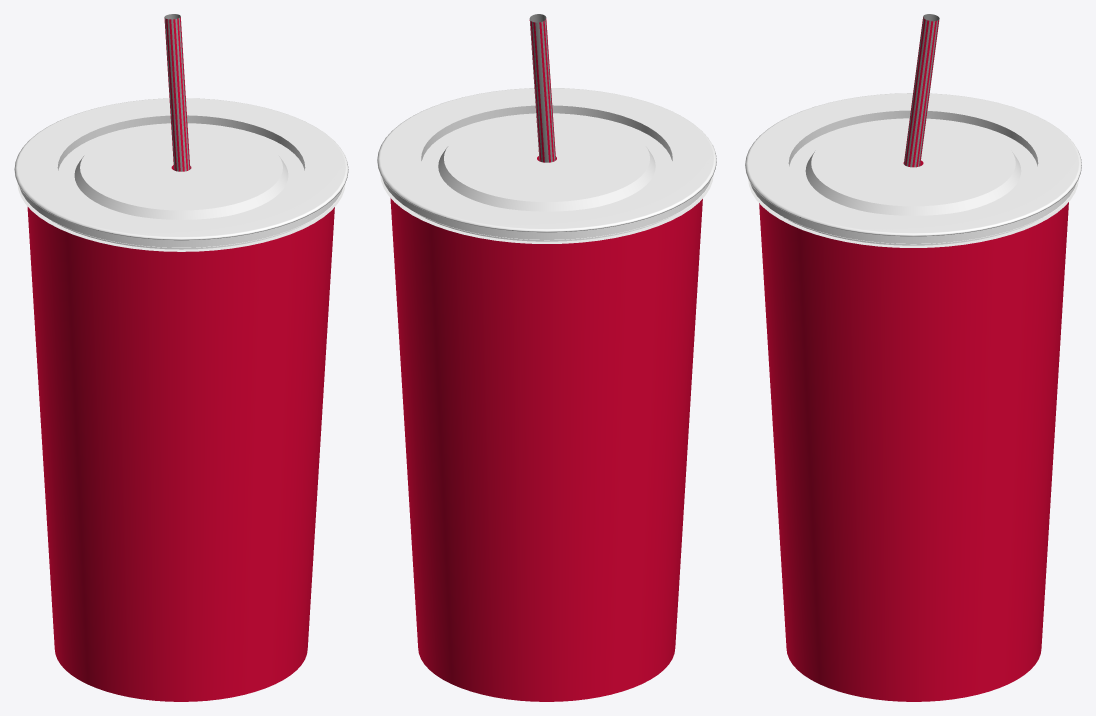
File: Cup.fbx
The picture shows the model from 3 angles, left to right: view 1: azimuth 30°, elevation 25°; view 2: azimuth 150°, elevation 25°; view 3: azimuth 270°, elevation 25°; orthographic projection.
Visible parts, largest first — view 1: Cup, Lid, Straw; view 2: Cup, Lid, Straw; view 3: Cup, Lid, Straw.
Part boxes in pixels (x1=…): Cup: x1=27, y1=165, x2=334, y2=701; Lid: x1=14, y1=98, x2=348, y2=251; Straw: x1=164, y1=14, x2=190, y2=171; Cup: x1=390, y1=156, x2=702, y2=701; Lid: x1=377, y1=88, x2=716, y2=243; Straw: x1=529, y1=14, x2=555, y2=162; Cup: x1=759, y1=160, x2=1068, y2=701; Lid: x1=745, y1=93, x2=1081, y2=247; Straw: x1=904, y1=14, x2=939, y2=167.
Size of the model in its own units: 6.2 by 12.83 by 6.2.
